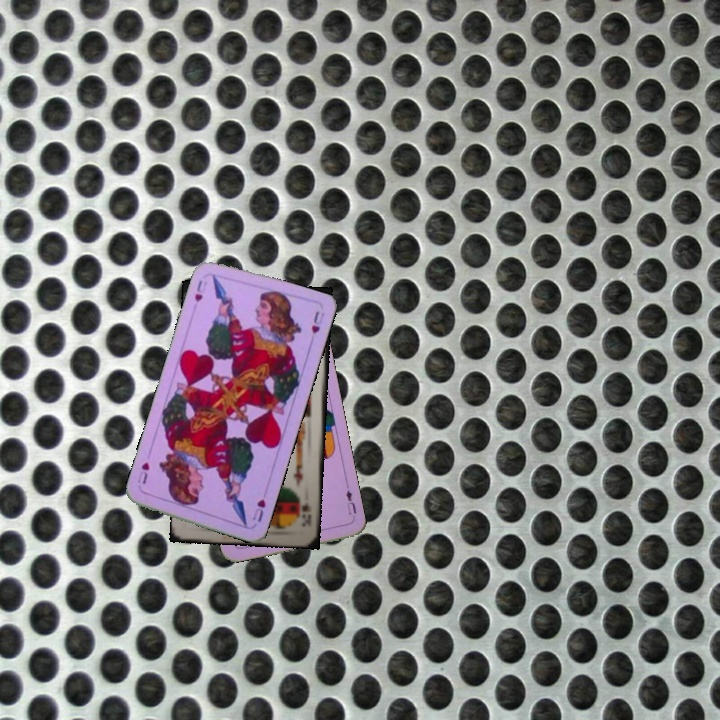EU: (342, 486, 359, 523)
HU: (248, 495, 268, 524), (191, 276, 210, 304)
SK: (297, 498, 315, 530)
